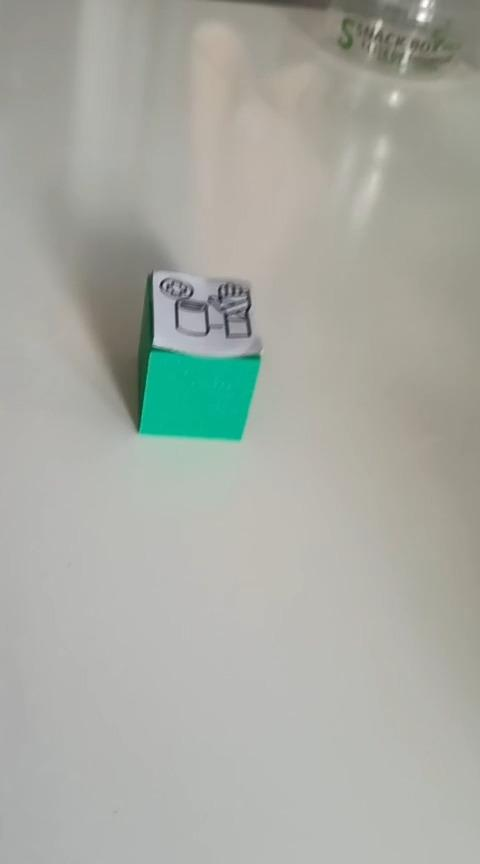Bandages: (135, 268, 263, 442)
